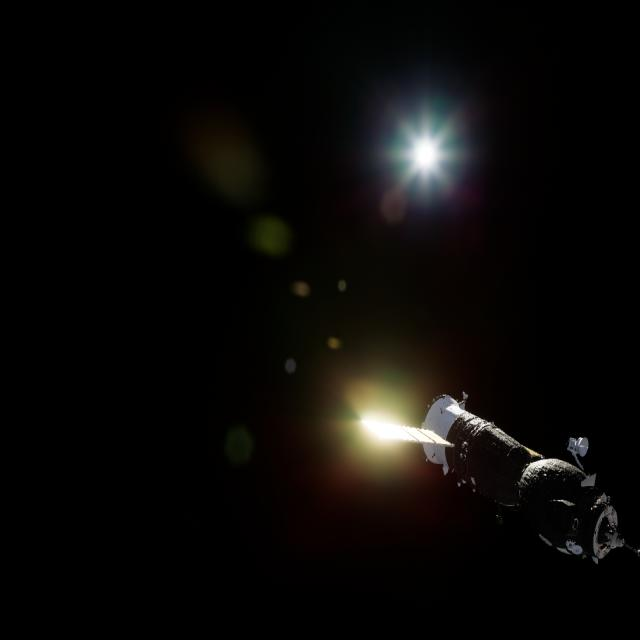Satellites revolving around earth: (358, 388, 632, 567)
